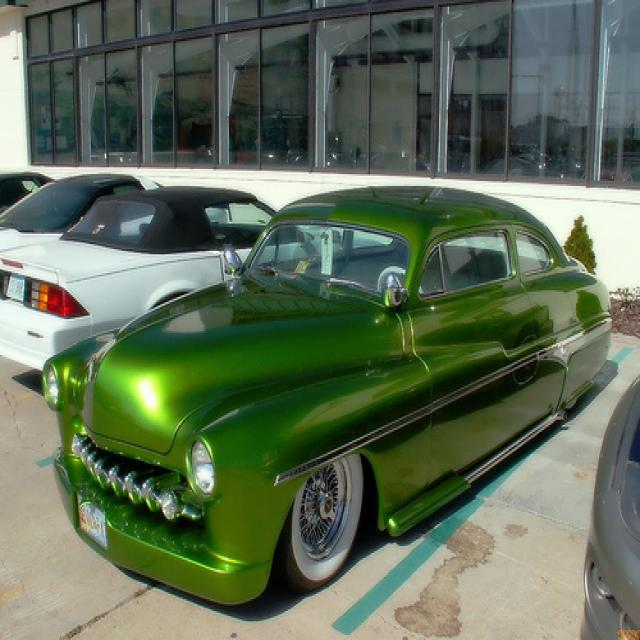Car: (42, 177, 618, 610), (0, 164, 332, 384)
